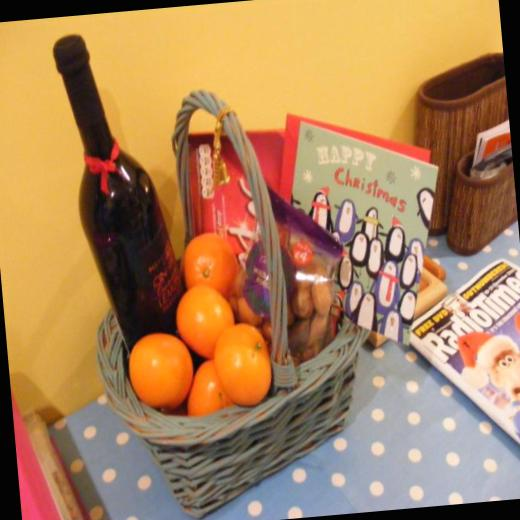Grape: (127, 330, 196, 414), (210, 321, 274, 409), (176, 229, 242, 305), (174, 283, 236, 362), (183, 358, 236, 416)
